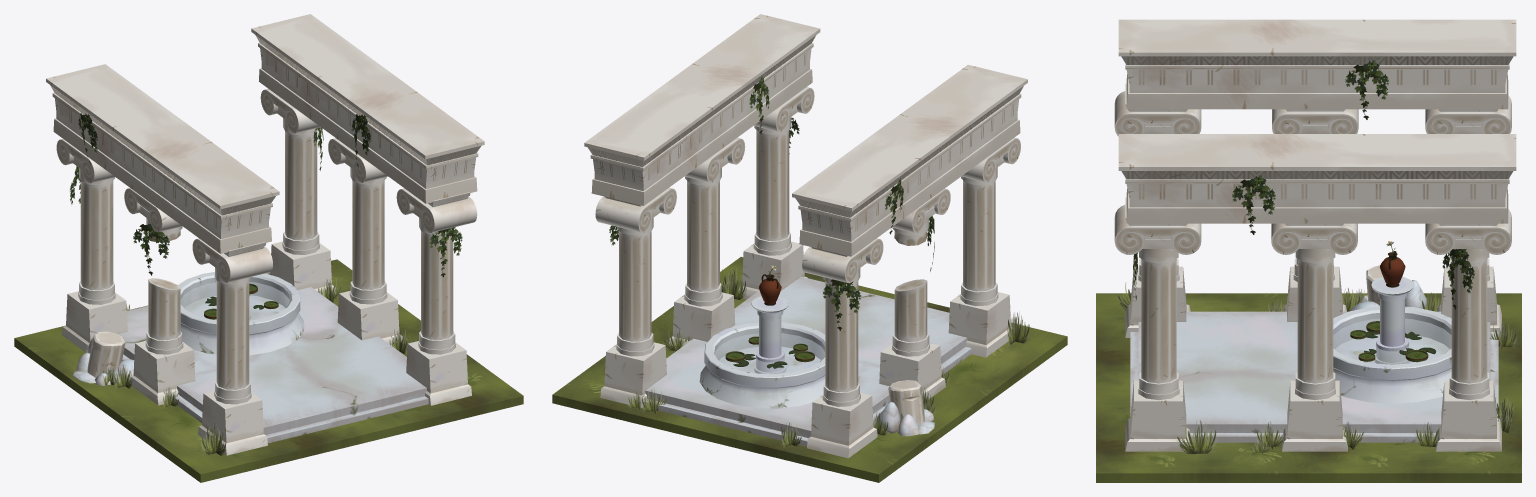
The model's file is temple.glb.
The picture shows the model from 3 angles, left to right: view 1: azimuth 30°, elevation 25°; view 2: azimuth 150°, elevation 25°; view 3: azimuth 270°, elevation 25°; orthographic projection. The views are drawn at different scales.
Visible parts, largest first — view 1: Entablature_Base3, Entablature_Base, Templebase_Base, Pillar_Pillar11, Pillar_Pillar9, Ground_Base6, Pillar_Pillar13, Pillar_Pillar10, Pillar_Pillar8, BrokenPillar_Base2, Fountain_Well, Ground_Base7 (+7 smaller); view 2: Entablature_Base3, Entablature_Base, Templebase_Base, Pillar_Pillar13, Pillar_Pillar8, Pillar_Pillar11, Pillar_Pillar10, Pillar_Pillar9, Fountain_Well, BrokenPillar_Base2, Ground_Base, Ground_Base6 (+8 smaller); view 3: Entablature_Base3, Entablature_Base, Templebase_Base, Pillar_Pillar9, Pillar_Pillar10, Pillar_Pillar8, Ground_Base7, Ground_Base5, Fountain_Well, Ground_Base6, Pillar_Pillar11, Pillar_Pillar13 (+12 smaller).
Part boxes in pixels (x1,y1,x2,y2): Entablature_Base3: (46, 64, 279, 253); Entablature_Base: (251, 14, 484, 203); Templebase_Base: (118, 275, 428, 443); Pillar_Pillar11: (192, 238, 272, 455); Pillar_Pillar9: (396, 188, 477, 405); Ground_Base6: (107, 397, 362, 482); Pillar_Pillar13: (56, 139, 127, 352); Pillar_Pillar10: (328, 138, 402, 345); Pillar_Pillar8: (260, 89, 335, 295); BrokenPillar_Base2: (124, 188, 195, 405); Fountain_Well: (178, 272, 304, 355); Ground_Base7: (347, 330, 523, 443); Entablature_Base3: (792, 64, 1027, 256); Entablature_Base: (584, 14, 820, 205); Templebase_Base: (643, 276, 971, 446); Pillar_Pillar13: (802, 238, 883, 458); Pillar_Pillar8: (595, 187, 676, 407); Pillar_Pillar11: (948, 137, 1020, 357); Pillar_Pillar10: (669, 138, 745, 345); Pillar_Pillar9: (738, 87, 814, 299); Fountain_Well: (699, 322, 825, 408); BrokenPillar_Base2: (879, 188, 950, 399); Ground_Base: (715, 396, 973, 482); Ground_Base6: (927, 302, 1067, 413); Entablature_Base3: (1118, 19, 1516, 109); Entablature_Base: (1118, 134, 1516, 223); Templebase_Base: (1130, 311, 1498, 442); Pillar_Pillar9: (1114, 197, 1201, 451); Pillar_Pillar10: (1271, 223, 1357, 451); Pillar_Pillar8: (1425, 209, 1511, 451); Ground_Base7: (1096, 383, 1308, 482); Ground_Base5: (1309, 383, 1521, 482); Fountain_Well: (1333, 306, 1451, 403); Ground_Base6: (1096, 293, 1287, 383); Pillar_Pillar11: (1114, 83, 1201, 337); Pillar_Pillar13: (1425, 95, 1511, 337).
Size of the model in its own units: 8 by 6.28 by 8.
3 materials, 3 textured.
